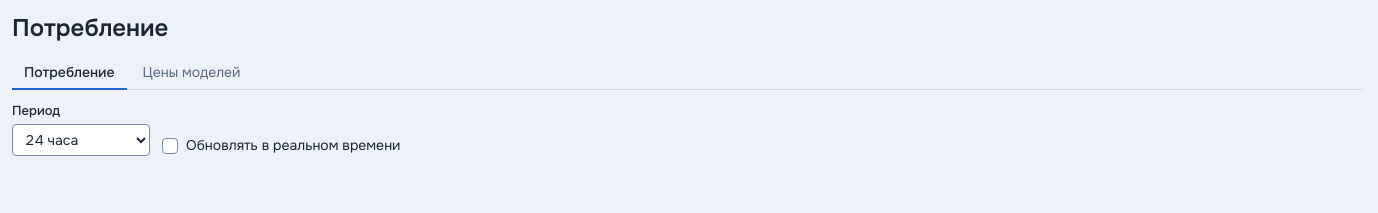
Scenario: экран «Потребление» › читатель цен не видит кнопок изменения
Press the mouse on the tab "Цены моделей" at [191, 74], box x1=130 y1=58 x2=252 y2=90
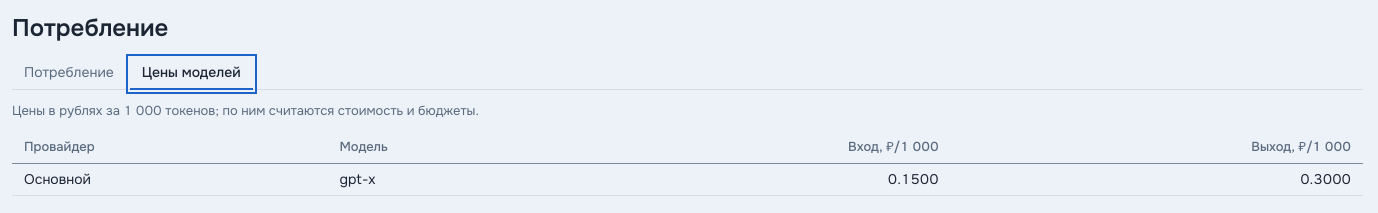
Expected: the text "gpt-x" is shown, x1=327 y1=163 x2=569 y2=195
Expected: the text "Основной" is shown, x1=12 y1=163 x2=327 y2=195
